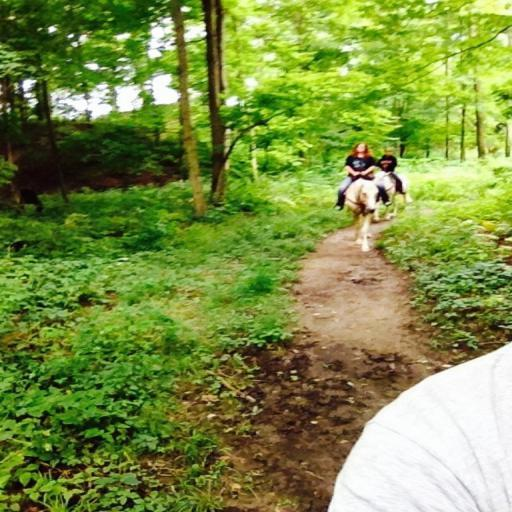horse: (339, 176, 382, 252), (371, 168, 414, 222)
